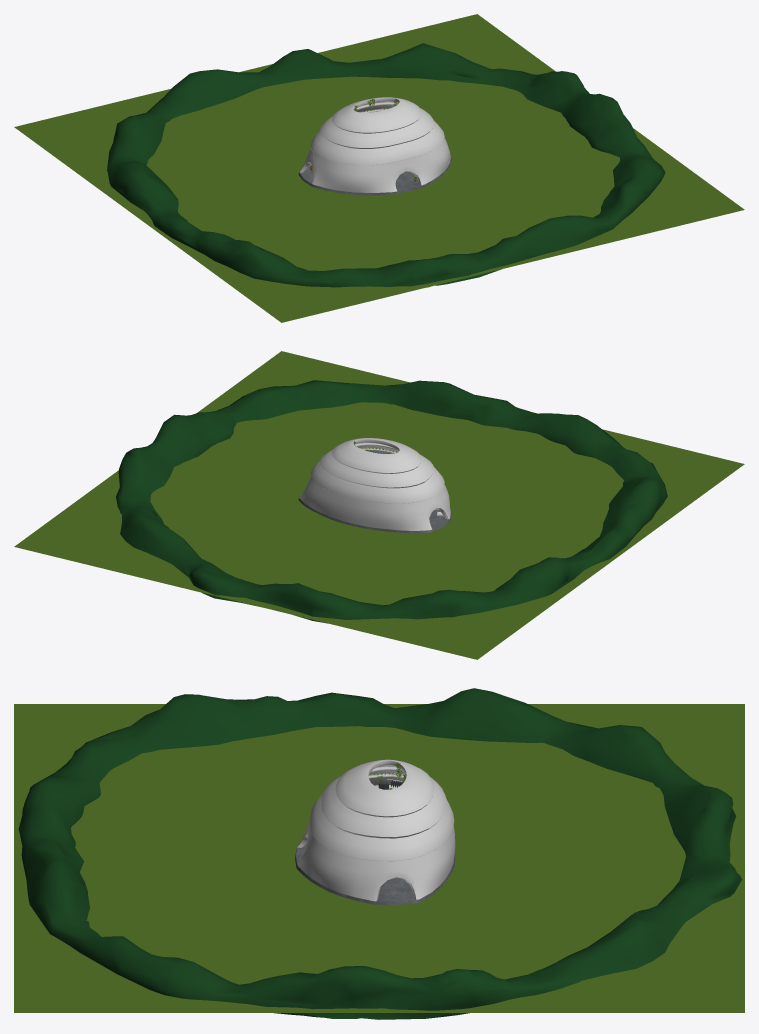
The model's file is baked.gltf.
3 views of the same model, one above another, from view 1: azimuth 30°, elevation 25°; view 2: azimuth 150°, elevation 25°; view 3: azimuth 270°, elevation 25° (orthographic). The views are drawn at different scales.
Parts seen in each view (by area): view 1: floor, mountain, dome_top, dome_floor; view 2: floor, mountain, dome_top, dome_floor; view 3: floor, mountain, dome_top, dome_floor.
Part boxes in pixels (x1,y1,x2,y2): floor: (14,14,744,322); mountain: (107,43,665,287); dome_top: (299,97,450,192); dome_floor: (298,152,451,195); floor: (14,351,744,659); mountain: (116,380,667,623); dome_top: (299,438,450,530); dome_floor: (298,491,451,533); floor: (14,704,744,1012); mountain: (18,688,742,1019); dome_top: (297,759,455,901); dome_floor: (295,843,455,905).
Bounding box in the file's own units: 66.56 × 9.79 × 66.56.
